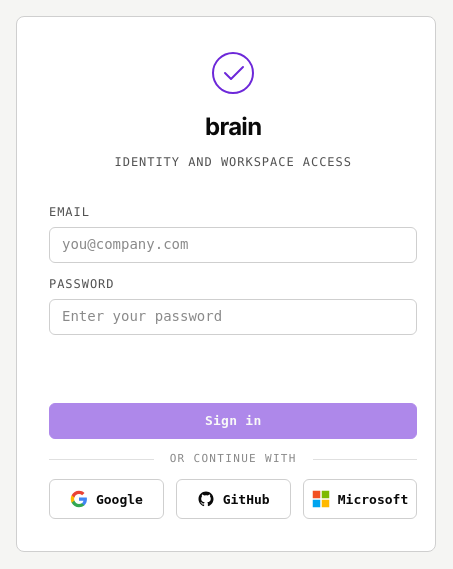
Scenario: LoginPage › shows an error badge when login fails
This screenshot has width=453, height=569.
Type "test@example.com" into the field labelled "Email" at (233, 245), box [49, 227, 417, 263]
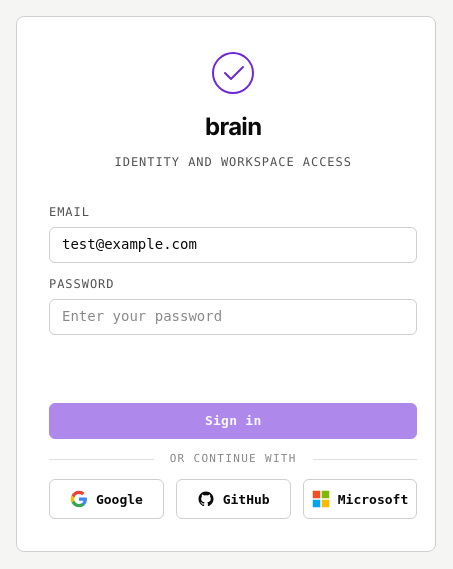
Type "wrong" into the password field labelled "Password" at (233, 317), box [49, 299, 417, 335]
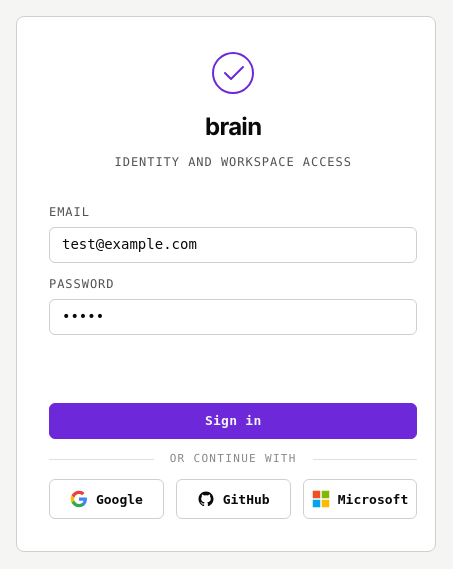
Click the button "Sign in" at (233, 421), box [49, 403, 417, 439]
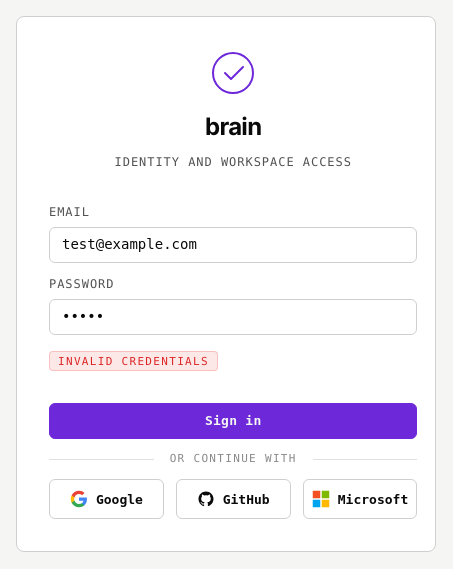
Expected: the text "invalid credentials" is shown, [49, 351, 218, 371]
